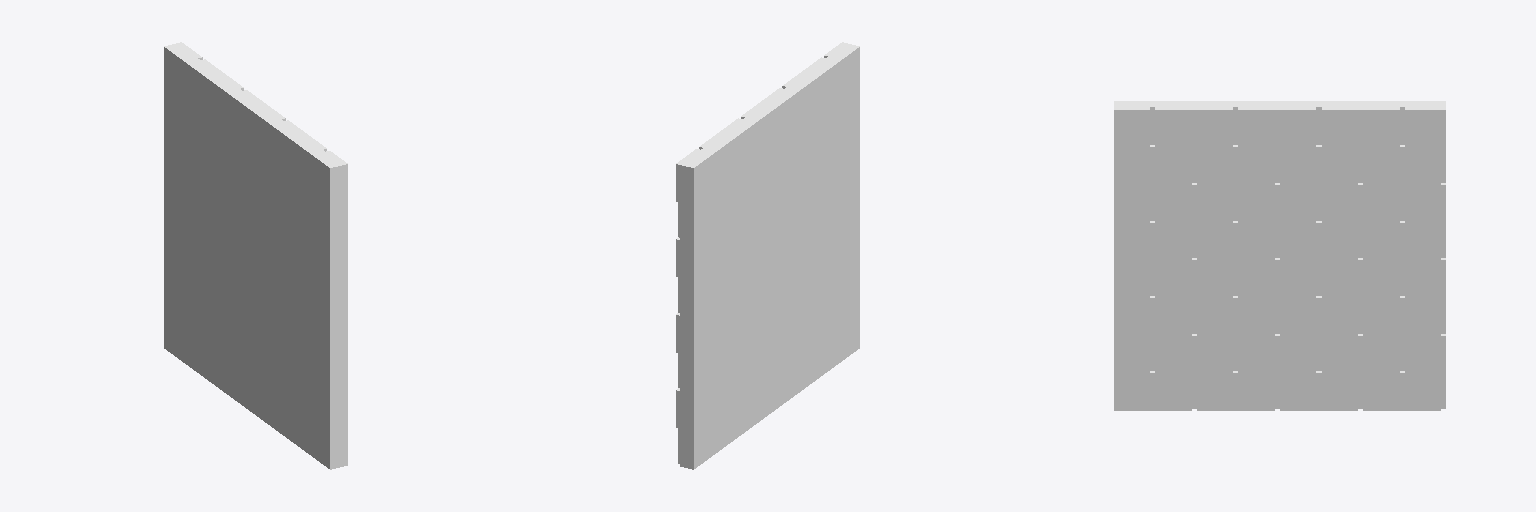
Rendered from dive_bar_wall_b.obj.
3 renders of one model, left to right at view 1: azimuth 30°, elevation 25°; view 2: azimuth 150°, elevation 25°; view 3: azimuth 270°, elevation 25°, orthographic.
Bounding box in the file's own units: 4 × 64 × 64.